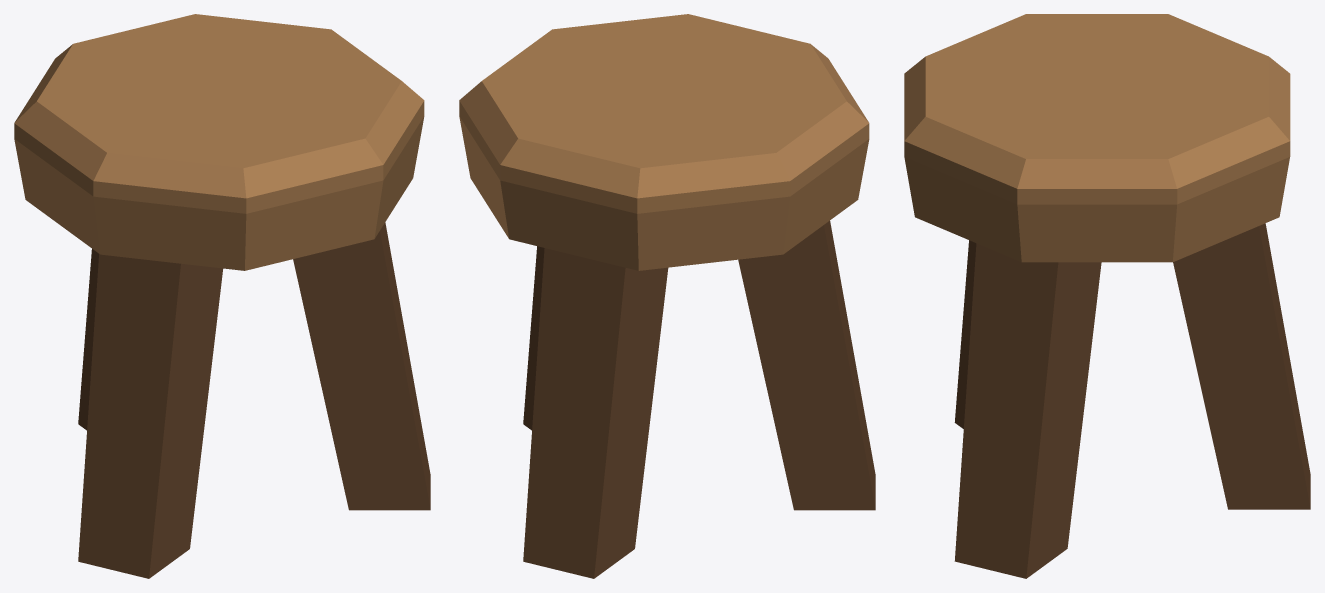
Rendered from mdvl_farm_milking_stool_01.glb.
3 views of the same model, side by side, from view 1: azimuth 30°, elevation 25°; view 2: azimuth 150°, elevation 25°; view 3: azimuth 270°, elevation 25° (orthographic).
Parts seen in each view (by area): view 1: mdvl_farm_milking_stool_01; view 2: mdvl_farm_milking_stool_01; view 3: mdvl_farm_milking_stool_01.
Part boxes in pixels (x1,y1,x2,y2): mdvl_farm_milking_stool_01: (14,14,430,578); mdvl_farm_milking_stool_01: (459,14,875,578); mdvl_farm_milking_stool_01: (904,14,1310,578).
Size of the model in its own units: 0.3582 by 0.39 by 0.3541.
1 material, 1 textured.
